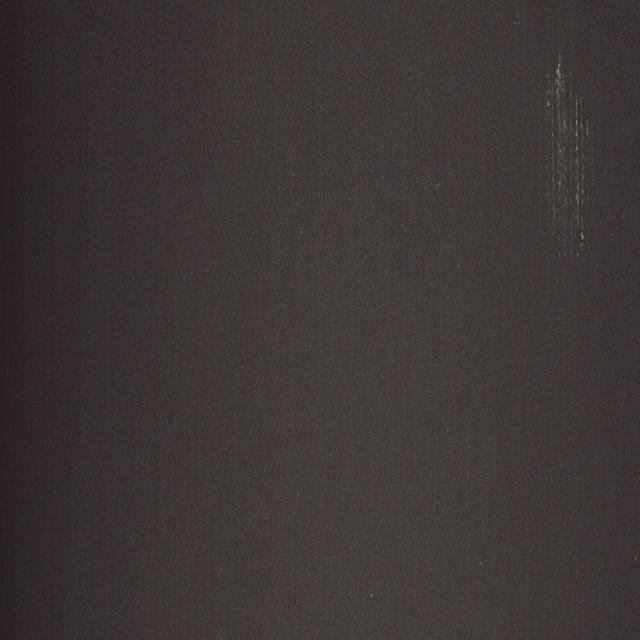stain: (544, 56, 588, 260)
